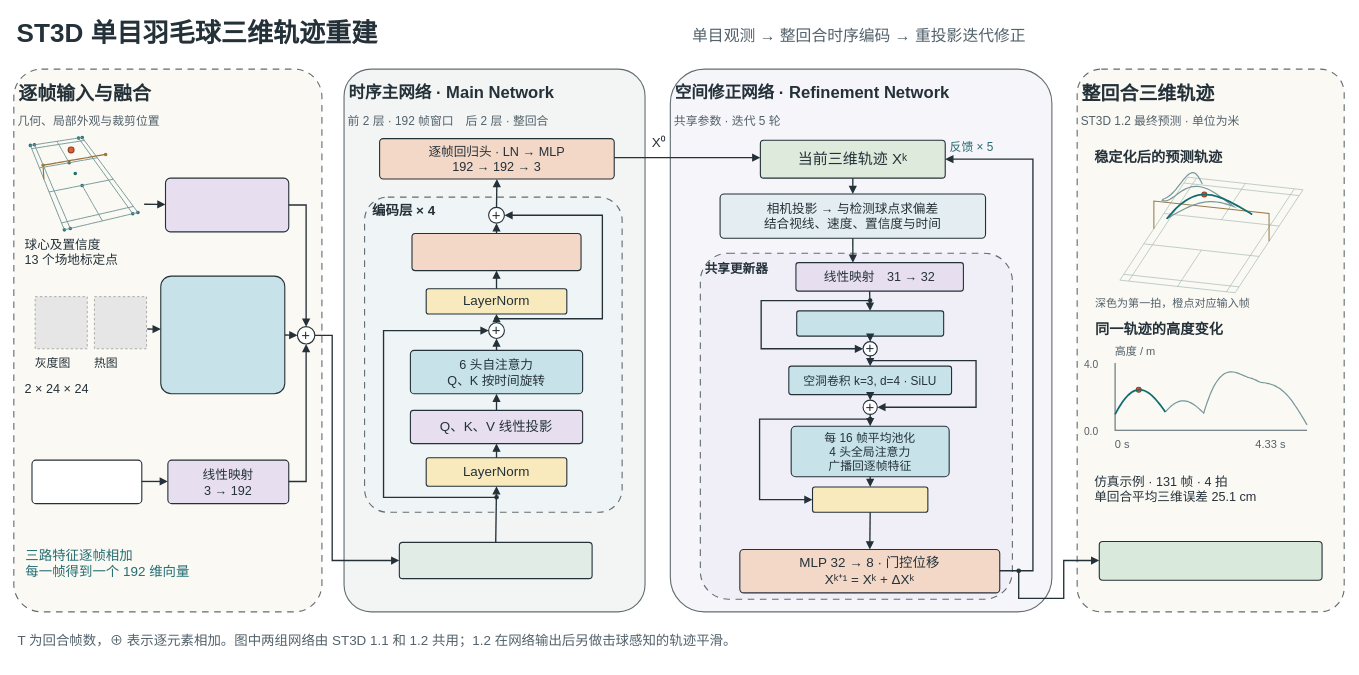
This 1359x675 diagram has some shape labels left out. Grey dashed boxes stand in for pictures. The shapes that lost their labels are listed below. From the top down, each one's centre as x and y in pixels, then its label:
At point (227, 204): "球点 / 场地编码 96 + 96 → 192".
At point (496, 251): "前馈网络 · GELU 192 → 768 → 192".
At point (222, 334): "3 × 3 卷积 + GELU 2 → 16 → 32 → 32 平均池化、展平 288 → 192 · LN".
At point (870, 323): "时序卷积 k=5 · SiLU".
At point (86, 481): "裁剪中心与尺度 (u, v, s)".
At point (870, 499): "Add & Norm".
At point (495, 560): "逐帧序列 T × 192".
At point (1210, 560): "五轮输出 X⁵ → 击球感知平滑".
